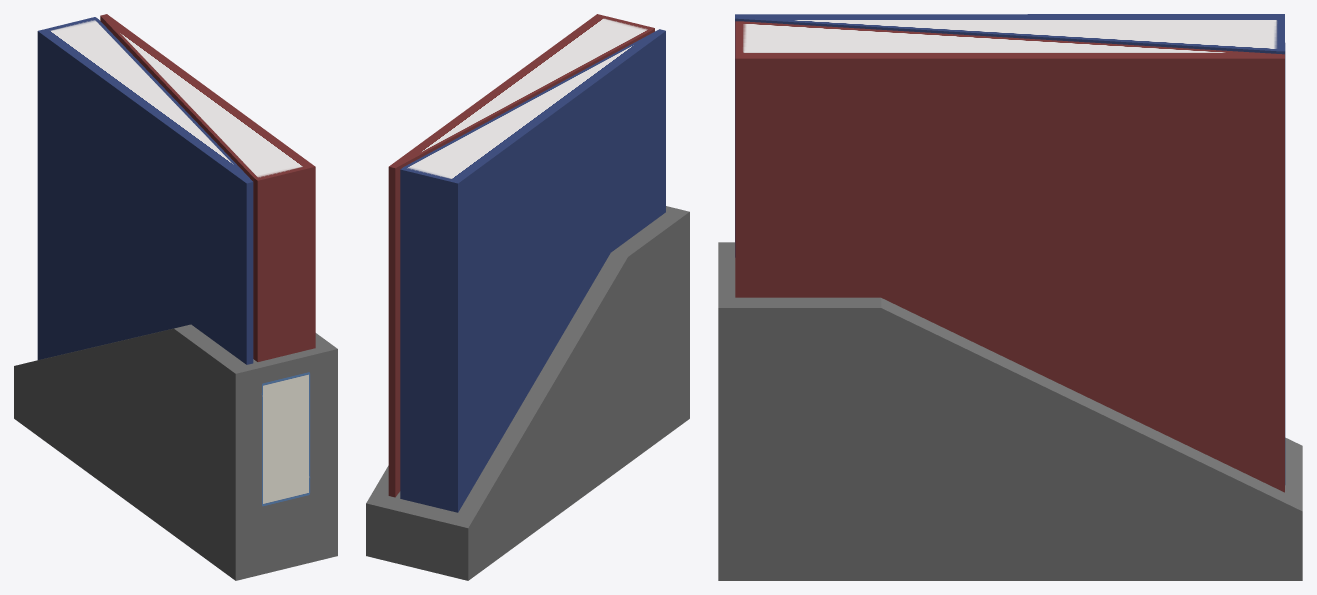
File: folder.fbx
The picture shows the model from 3 angles, left to right: view 1: azimuth 30°, elevation 25°; view 2: azimuth 150°, elevation 25°; view 3: azimuth 270°, elevation 25°; orthographic projection. The views are drawn at different scales.
Visible parts, largest first — view 1: Cube.002, Cube, Cube.001; view 2: Cube.002, Cube, Cube.001; view 3: Cube.001, Cube, Cube.002.
Boxes of the visible parts, left/top/right/bottom form: Cube.002: left=37, top=17, right=253, bottom=364; Cube: left=14, top=324, right=337, bottom=580; Cube.001: left=100, top=14, right=315, bottom=361; Cube.002: left=400, top=29, right=665, bottom=512; Cube: left=366, top=206, right=689, bottom=580; Cube.001: left=388, top=14, right=654, bottom=497; Cube.001: left=735, top=21, right=1284, bottom=492; Cube: left=718, top=242, right=1302, bottom=580; Cube.002: left=735, top=14, right=1285, bottom=484.
Size of the model in its own units: 35.86 by 130 by 135.
Materials: 3 (3 with a texture image).
